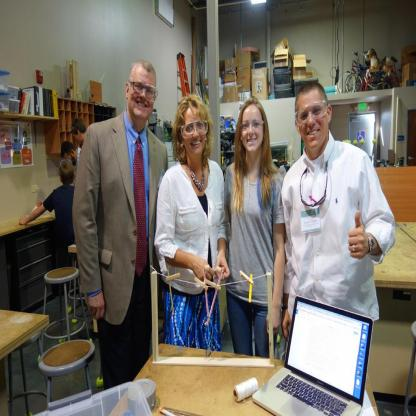board: (254, 298, 373, 416)
